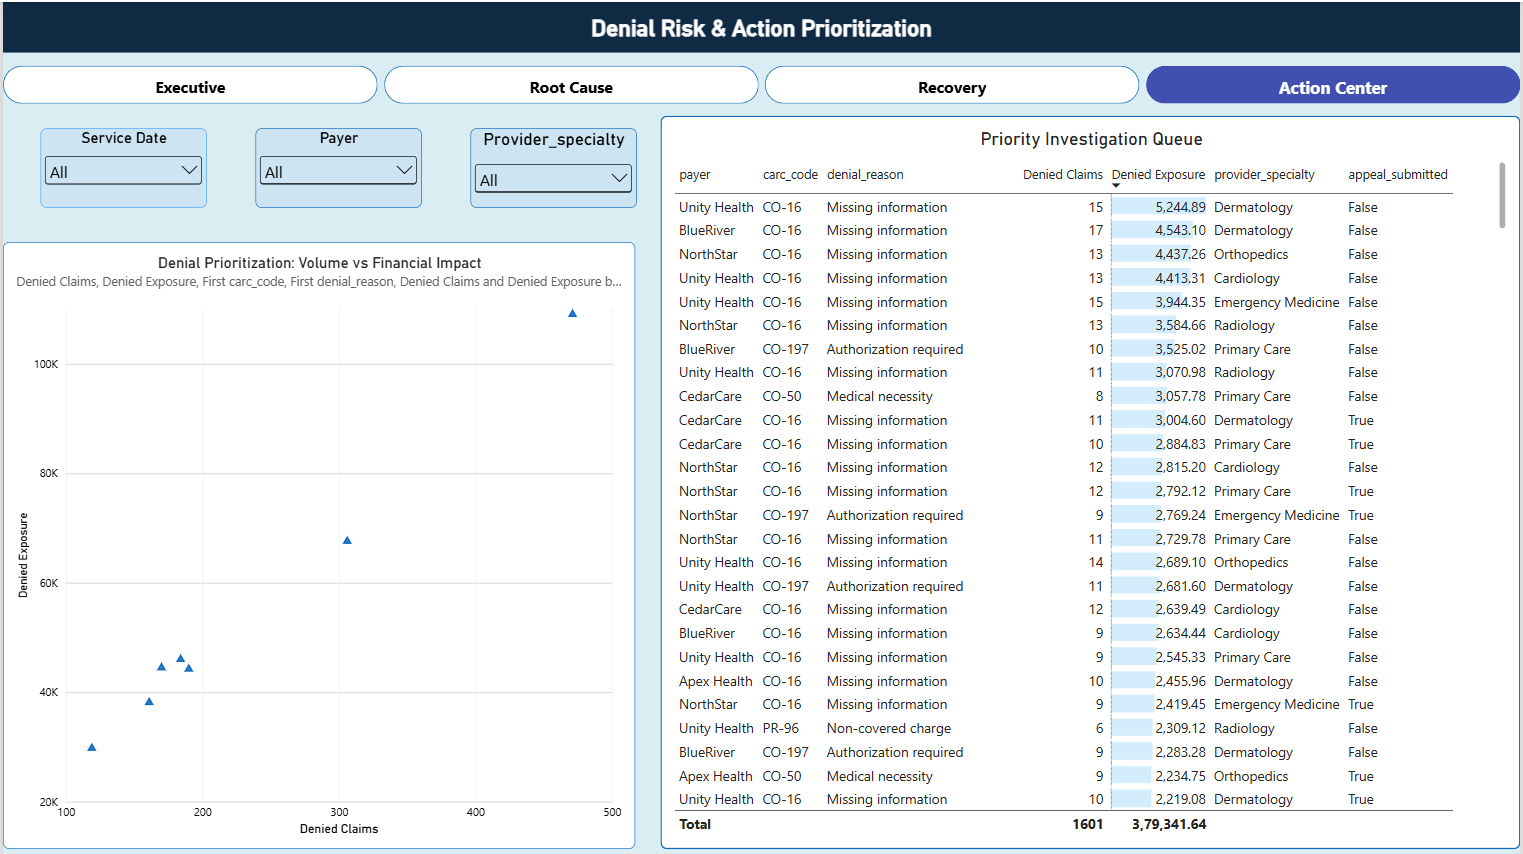

Layout of this report page (visuals, bound fields, positions):
{"tool":"powerbi","page":{"name":"Action Center","canvas":[1920,1080],"ordinal":3},"visuals":[{"type":"textbox","title":"Denial Risk & Action Prioritization","box":[0,0,1920,64],"z":0},{"type":"scatterChart","title":"Denial Prioritization: Volume vs Financial Impact","fields":{"Category":["claims_processed.denial_reason"],"X":["claims_processed.Denied Claims"],"Y":["claims_processed.Denied Exposure"]},"box":[0,304,800,768],"z":1000},{"type":"tableEx","title":"Priority Investigation Queue","fields":{"Values":["claims_processed.payer","claims_processed.carc_code","claims_processed.denial_reason","claims_processed.Denied Claims","claims_processed.Denied Exposure","claims_processed.provider_specialty","claims_processed.appeal_submitted"]},"box":[832,144,1088,928],"z":2000},{"type":"pageNavigator","box":[0,80,1920,48],"z":3000},{"type":"slicer","title":"Service Date","fields":{"Values":["claims_processed.Month Label"]},"box":[48,160,210,101],"z":4000},{"type":"slicer","title":"Payer","fields":{"Values":["claims_processed.payer"]},"box":[320,160,210,101],"z":5000},{"type":"slicer","title":"Provider_specialty","fields":{"Values":["claims_processed.provider_specialty"]},"box":[592,160,210,101],"z":6000}]}

Visuals, with their boxes in screenshot pixels (x1, y1, x2, y2), scaled from the page's 1920x1080 canvas onto the 1523x854 screenshot:
"Denial Risk & Action Prioritization" textbox: [left=0, top=0, right=1522, bottom=51]
"Denial Prioritization: Volume vs Financial Impact" scatterChart: [left=0, top=240, right=635, bottom=848]
"Priority Investigation Queue" tableEx: [left=660, top=114, right=1522, bottom=848]
pageNavigator: [left=0, top=63, right=1522, bottom=101]
"Service Date" slicer: [left=38, top=127, right=205, bottom=206]
"Payer" slicer: [left=254, top=127, right=420, bottom=206]
"Provider_specialty" slicer: [left=470, top=127, right=636, bottom=206]
